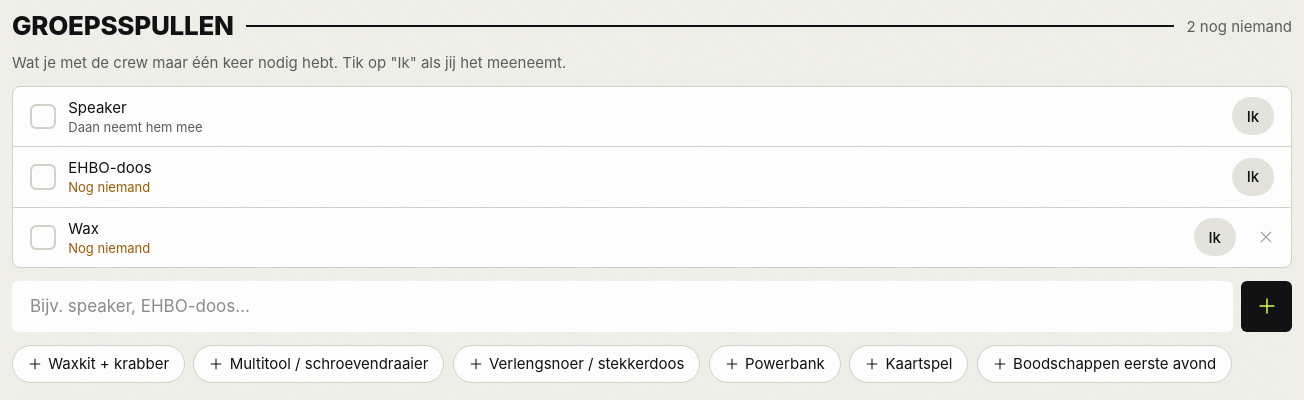
Test: groepslijst › "Ik" claimt meteen voor jezelf en slaat dat op
The image size is (1304, 400).
Click the 2nd button "Ik". click: (1253, 177)
box: left=1232, top=158, right=1274, bottom=196
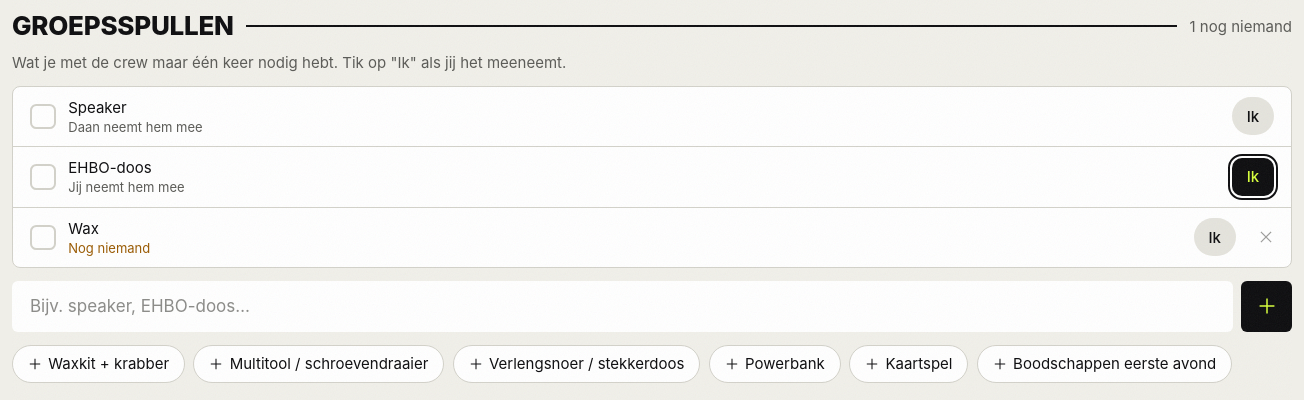
Now the text "Jij neemt hem mee" is shown, box left=68, top=179, right=185, bottom=195
